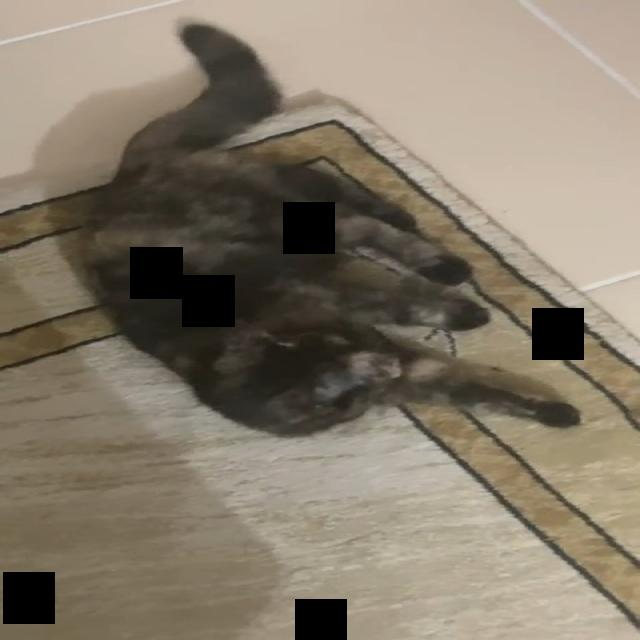authorized: (67, 16, 582, 438)
